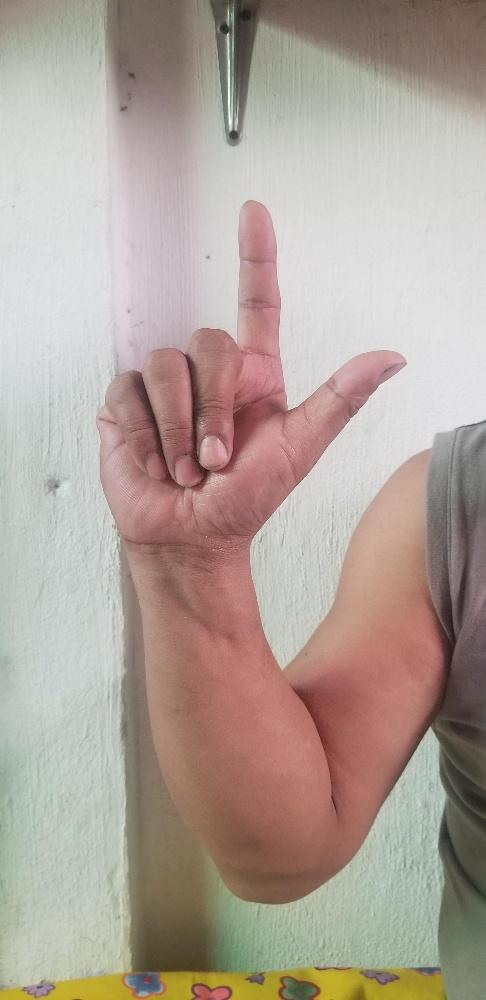l: (94, 201, 406, 540)
